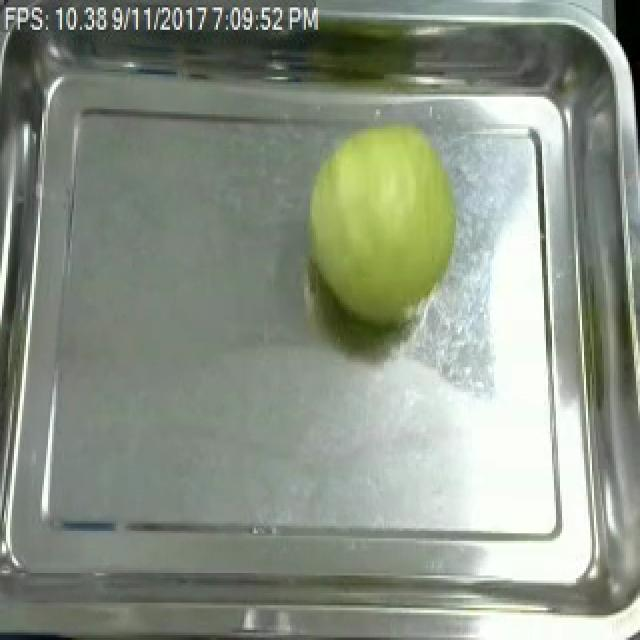Fruit: (296, 114, 470, 335)
